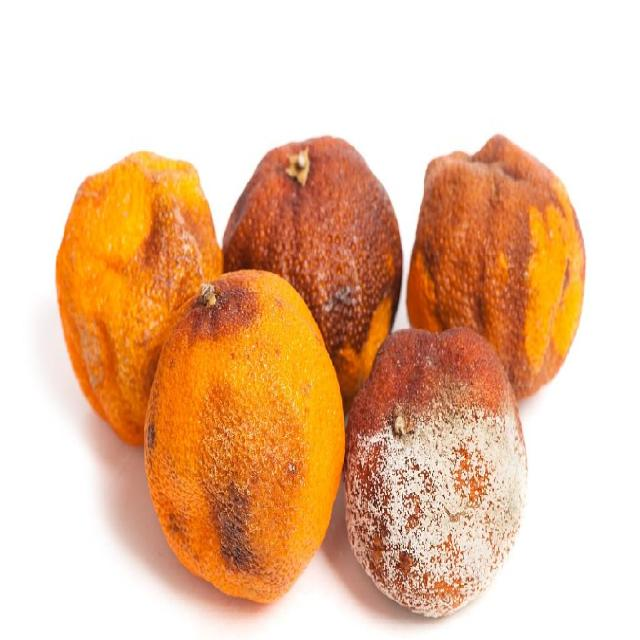Wet Waste: (56, 128, 588, 619)
